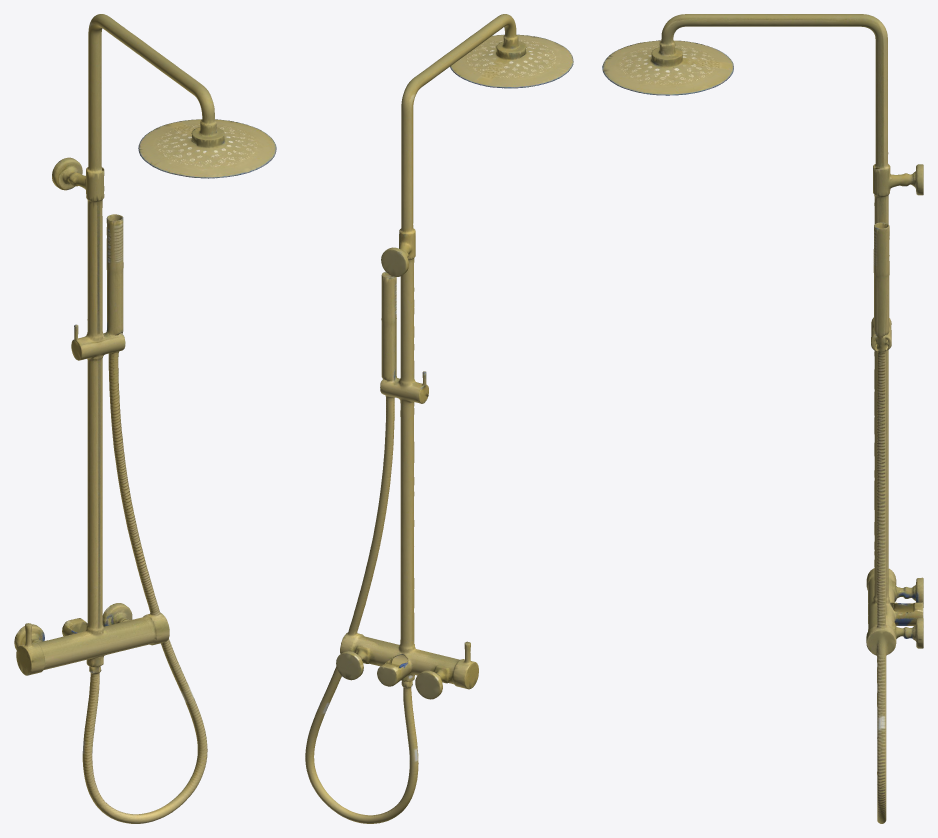
Rendered from ShowerSet.glb.
3 renders of one model, left to right at view 1: azimuth 30°, elevation 25°; view 2: azimuth 150°, elevation 25°; view 3: azimuth 270°, elevation 25°, orthographic. The views are drawn at different scales.
Bounding box in the file's own units: 0.4407 × 1.9 × 0.71.
1 material, 1 textured.
